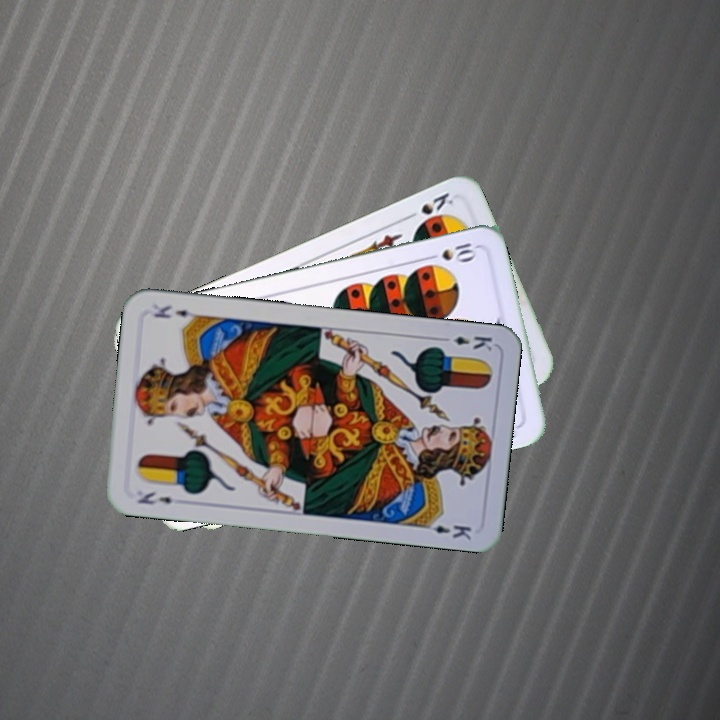EK: (436, 332, 495, 353), (133, 487, 175, 507)
S10: (421, 239, 480, 264)
SK: (401, 188, 456, 228)
